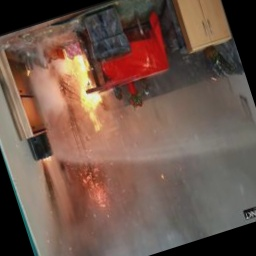fire: (52, 44, 118, 138)
smoke: (52, 119, 209, 256)
